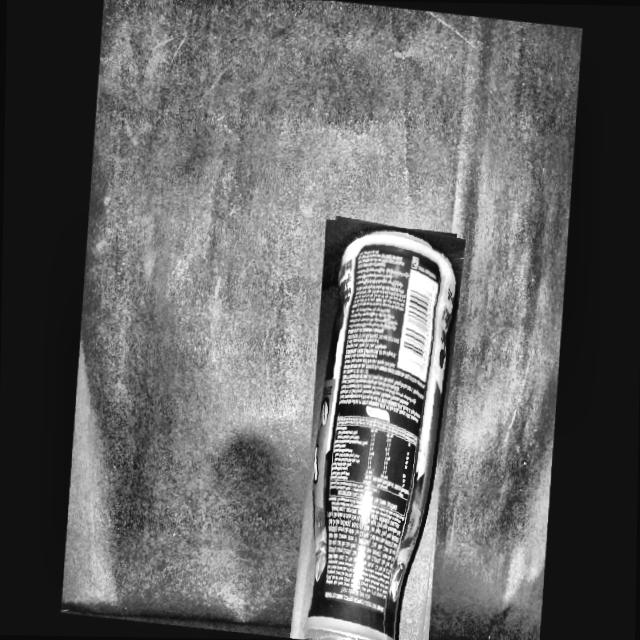Plastic-Bottle: (290, 214, 459, 640)
